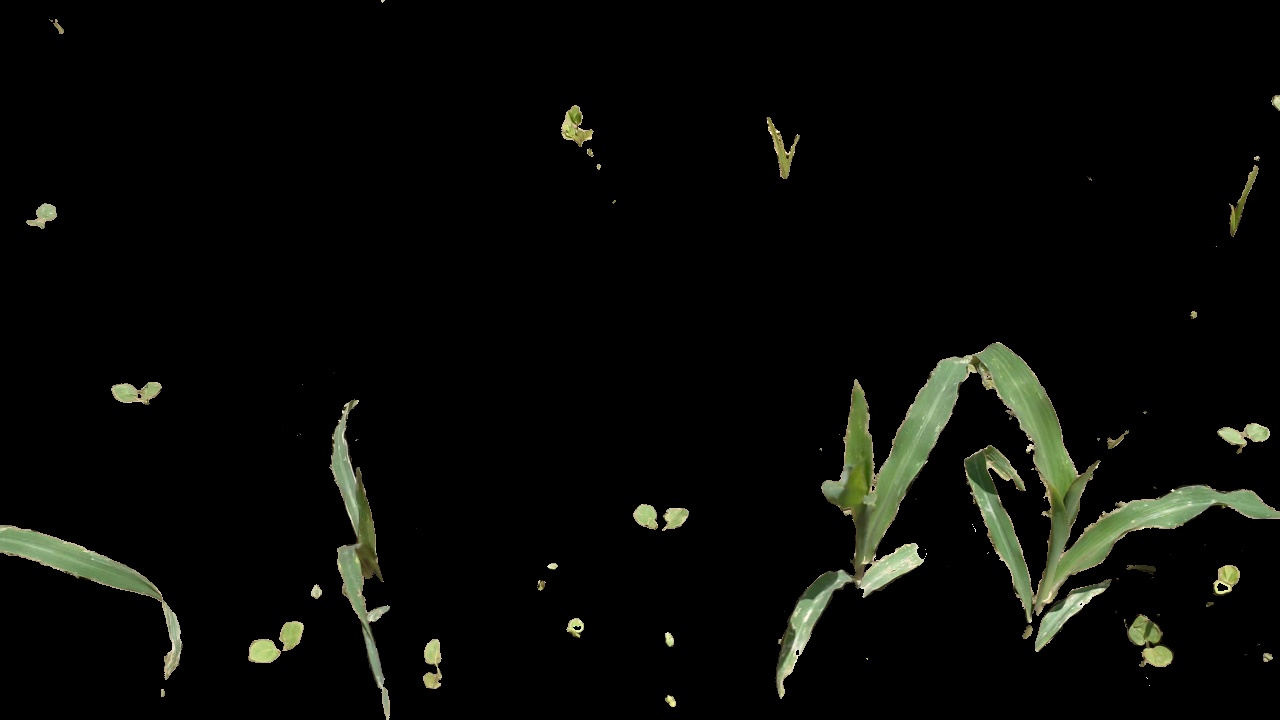crop: (782, 317, 975, 698), (976, 345, 1173, 646), (273, 384, 420, 720)
weed: (543, 98, 654, 223), (230, 603, 312, 678), (751, 114, 817, 195), (1217, 152, 1260, 248), (1128, 605, 1169, 684), (96, 377, 178, 411), (1214, 410, 1267, 455), (420, 634, 453, 705), (635, 497, 689, 537), (1211, 558, 1246, 601), (25, 203, 64, 232), (563, 613, 595, 645)
